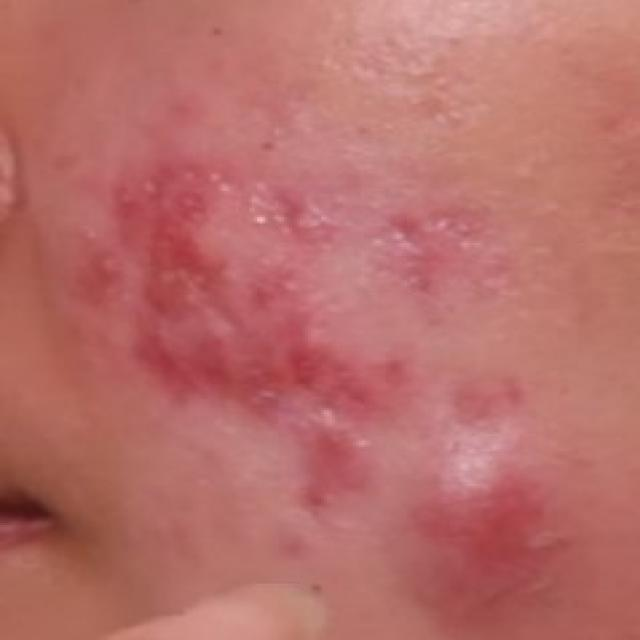nodule: (404, 450, 554, 591)
